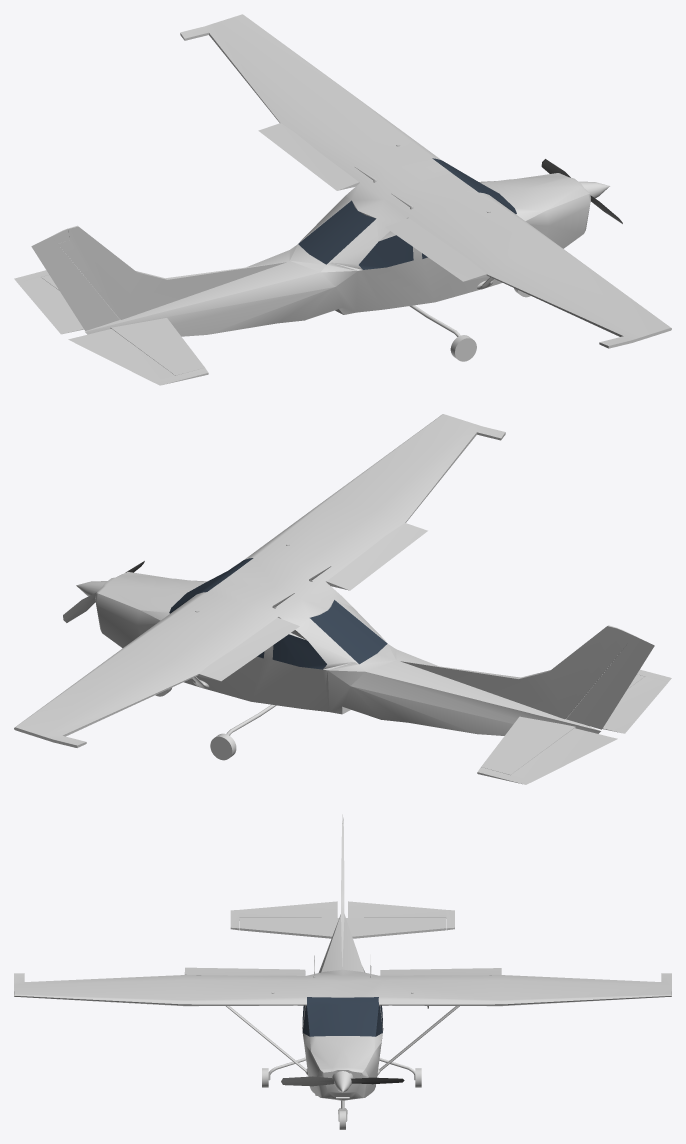
3 renders of one model, top to bottom at view 1: azimuth 30°, elevation 25°; view 2: azimuth 150°, elevation 25°; view 3: azimuth 270°, elevation 25°, orthographic. The views are drawn at different scales.
Visible parts, largest first — view 1: body, glass; view 2: body, glass; view 3: body, glass, spin.
Part boxes in pixels (box(x1,y1,x2,y2)): body: box(14, 14, 671, 385); glass: box(298, 158, 516, 269); body: box(14, 414, 671, 784); glass: box(169, 558, 387, 669); body: box(14, 814, 671, 1129); glass: box(302, 997, 383, 1036); spin: box(281, 1076, 404, 1086).
Size of the model in its own units: 1.72 by 0.5057 by 2.2.
